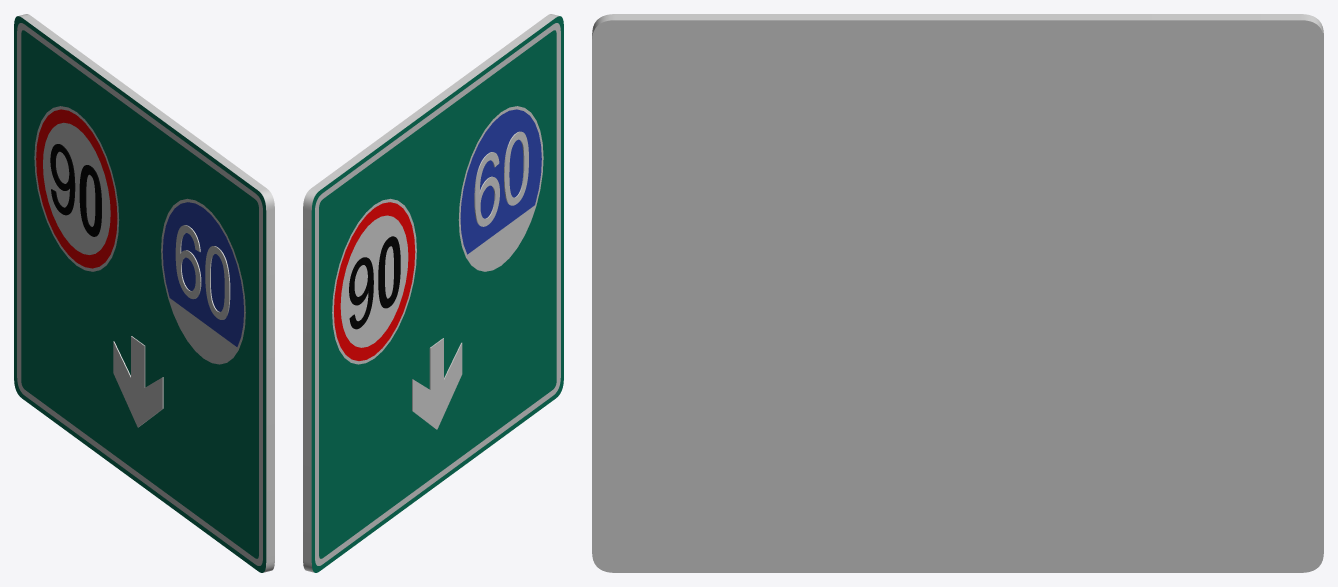
File: Speed_Limit_60-90.fbx
3 views of the same model, side by side, from view 1: azimuth 30°, elevation 25°; view 2: azimuth 150°, elevation 25°; view 3: azimuth 270°, elevation 25° (orthographic). The views are drawn at different scales.
Visible parts, largest first — view 1: Speed_Limit_60_90; view 2: Speed_Limit_60_90; view 3: Speed_Limit_60_90.
Boxes of the visible parts, bbox=[...] form: Speed_Limit_60_90: bbox=[14, 14, 274, 572]; Speed_Limit_60_90: bbox=[303, 14, 563, 572]; Speed_Limit_60_90: bbox=[592, 14, 1323, 572].
Bounding box in the file's own units: 0.0331 × 1.25 × 1.5.
